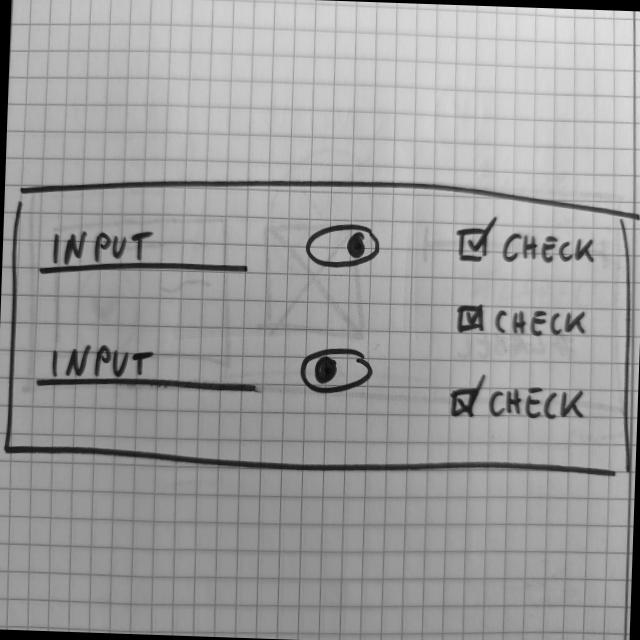checkbox: (454, 213, 597, 270), (450, 372, 593, 427), (455, 301, 595, 344)
container: (4, 165, 640, 481)
input: (33, 340, 263, 400), (38, 223, 252, 286)
toggle: (297, 343, 380, 398), (305, 222, 385, 273)
